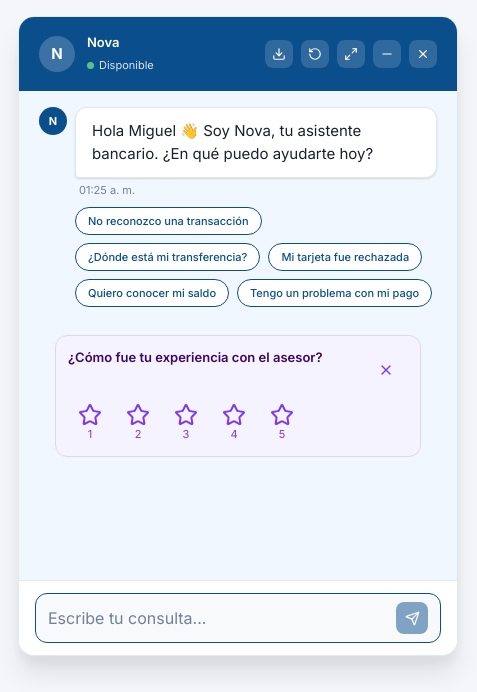
idle timer in the customer chat › pauses while the rating prompt is unanswered and resumes once dismissed
Expected: the text "¿Cómo fue tu experiencia con el asesor?" is shown, top-left (68, 348), bottom-right (322, 367)
Expected: the text "¿Hay algo más en lo que pueda ayudarte?" is not shown
Click the button named "Ahora no". click: (386, 370)
box: top-left (364, 348), bottom-right (408, 392)
Wait 300000 ms
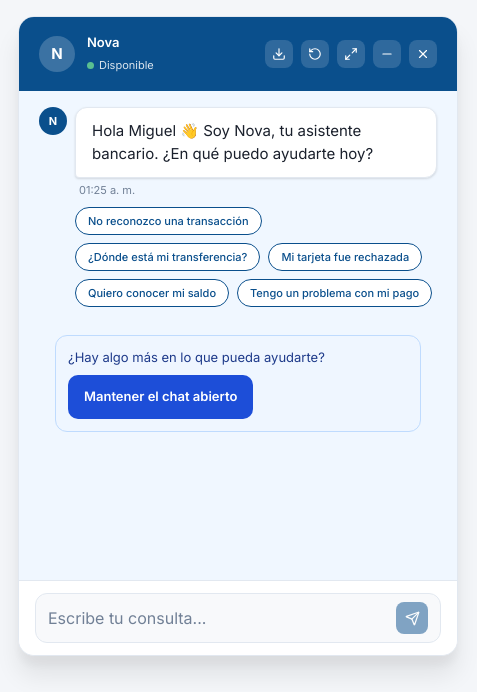
Expected: the text "¿Hay algo más en lo que pueda ayudarte?" is shown, top-left (68, 348), bottom-right (325, 364)
